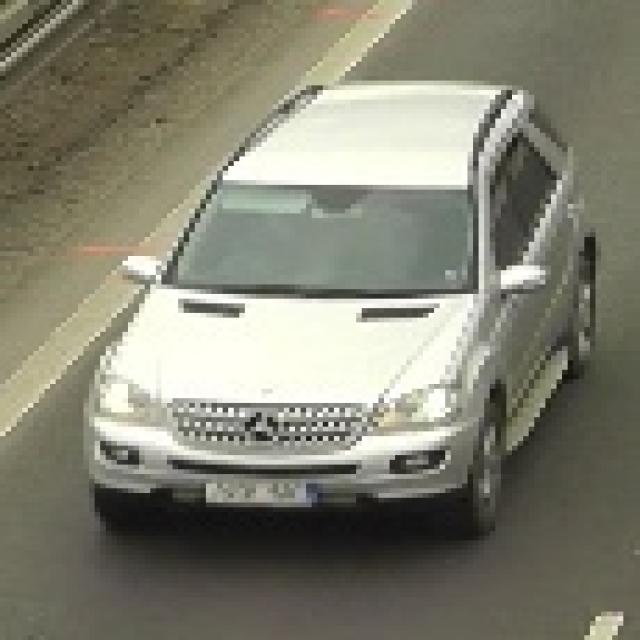SUV: (104, 95, 574, 538)
